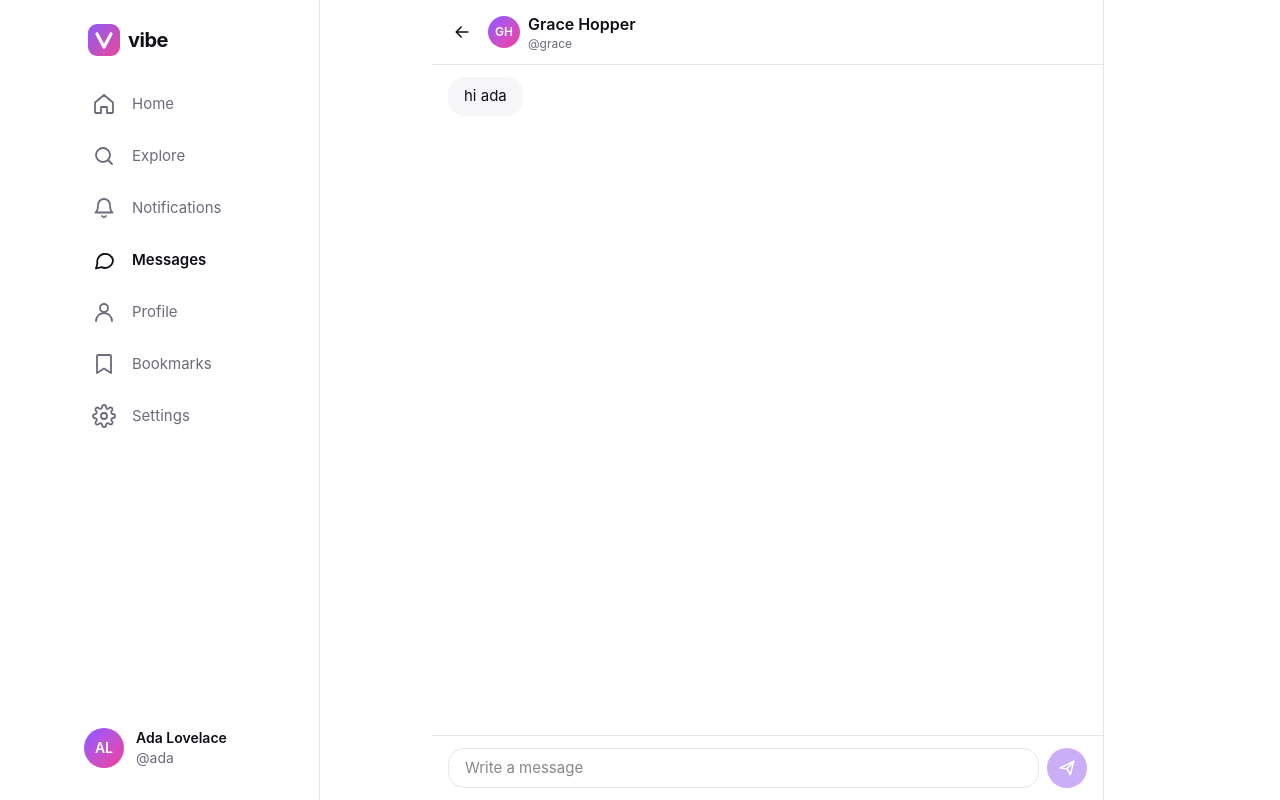
Scenario: a conversation › shows "Seen" once the other person has read my latest message
This screenshot has width=1280, height=800.
Expected: the list named "Messages" is shown, [448,77,523,116]
Type "did you see this" into the text box labelled "message" at {"x": 744, "y": 768}, box [448,748,1039,788]
Then press Enter
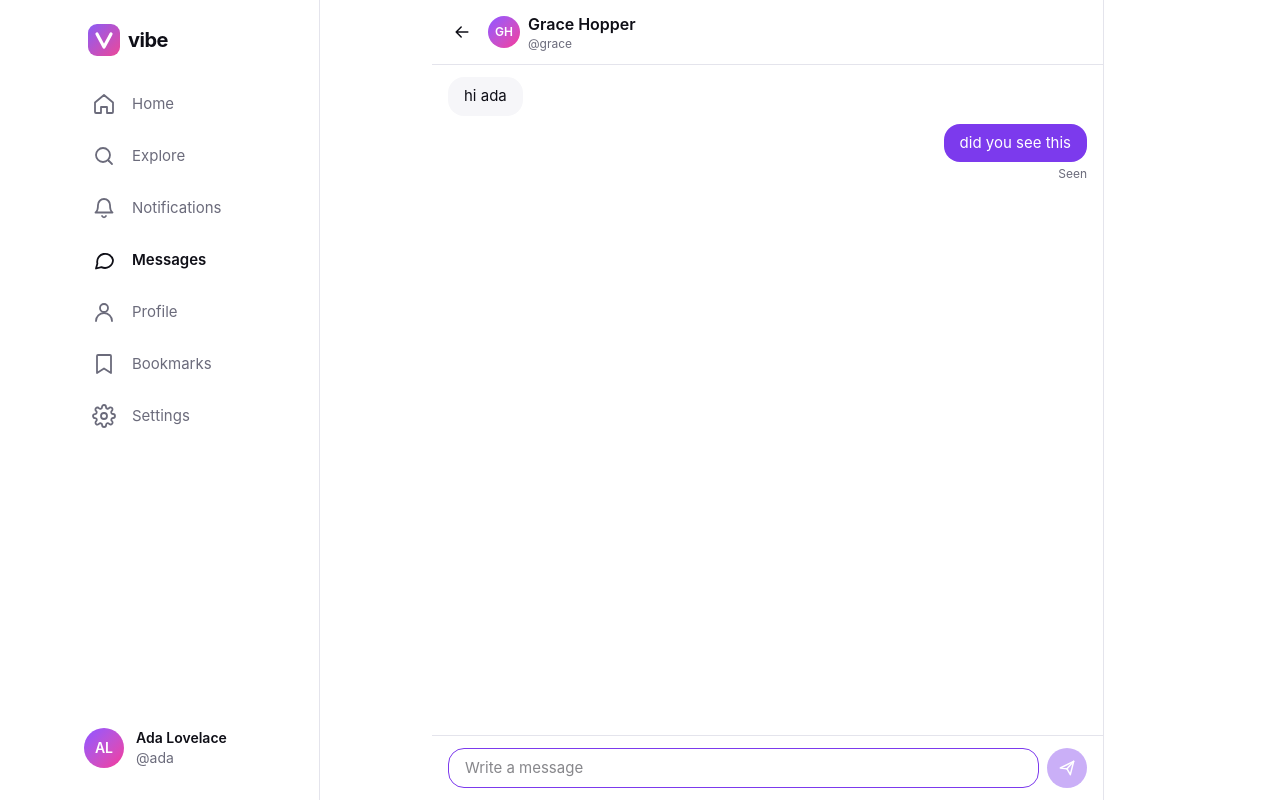
Result: the text "did you see this" is shown at [944,124,1087,162]
Result: the text "Seen" is shown at [1058,166,1087,181]
